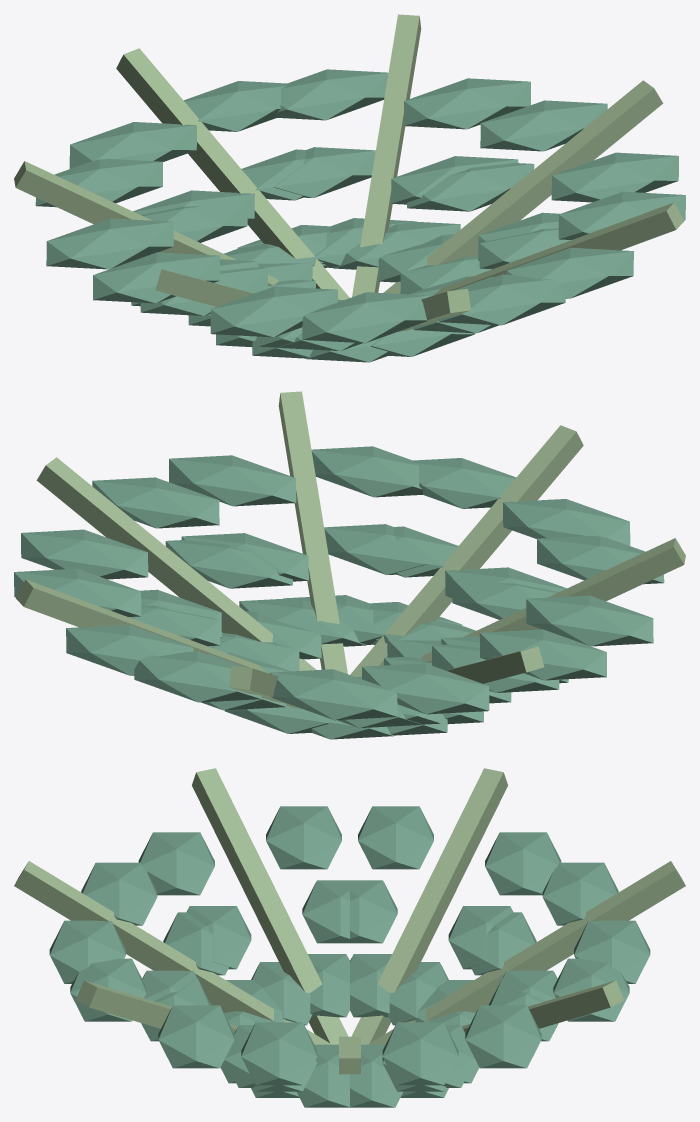
File: forest-fern.glb
3 renders of one model, top to bottom at view 1: azimuth 30°, elevation 25°; view 2: azimuth 150°, elevation 25°; view 3: azimuth 270°, elevation 25°, orthographic.
Parts seen in each view (by area): view 1: Fern frond, Fern frond.002, Fern frond.001, Fern leaflet.023, Fern leaflet.010, Fern leaflet.034, Fern leaflet.004, Fern leaflet.005, Fern leaflet.029, Fern leaflet.011, Fern frond.003, Fern leaflet.017 (+31 smaller); view 2: Fern frond, Fern frond.005, Fern frond.006, Fern leaflet.028, Fern leaflet.041, Fern leaflet.017, Fern leaflet.005, Fern leaflet.004, Fern leaflet.022, Fern leaflet.040, Fern frond.004, Fern leaflet.034 (+31 smaller); view 3: Fern frond.003, Fern frond.004, Fern frond.002, Fern frond.005, Fern leaflet.010, Fern leaflet.041, Fern leaflet.004, Fern leaflet.005, Fern leaflet.023, Fern leaflet.028, Fern leaflet.022, Fern leaflet.029 (+29 smaller).
Boxes of the visible parts, <box> form: Fern frond: <box>383,80,663,293</box>; Fern frond.002: <box>116,48,349,299</box>; Fern frond.001: <box>352,14,421,296</box>; Fern leaflet.023: <box>46,218,173,269</box>; Fern leaflet.010: <box>403,78,530,129</box>; Fern leaflet.034: <box>302,292,429,343</box>; Fern leaflet.004: <box>551,152,678,202</box>; Fern leaflet.005: <box>480,100,607,151</box>; Fern leaflet.029: <box>210,286,337,337</box>; Fern leaflet.011: <box>277,69,388,120</box>; Fern frond.003: <box>14,161,278,285</box>; Fern leaflet.017: <box>69,122,196,168</box>; Fern frond: <box>36,457,316,670</box>; Fern frond.005: <box>350,425,583,676</box>; Fern frond.006: <box>278,391,347,673</box>; Fern leaflet.028: <box>526,595,653,646</box>; Fern leaflet.041: <box>169,455,296,506</box>; Fern leaflet.017: <box>270,669,397,720</box>; Fern leaflet.005: <box>21,529,148,579</box>; Fern leaflet.004: <box>92,477,219,528</box>; Fern leaflet.022: <box>362,663,489,714</box>; Fern leaflet.040: <box>311,446,422,497</box>; Fern frond.004: <box>421,538,685,662</box>; Fern leaflet.034: <box>503,499,630,545</box>; Fern frond.003: <box>351,768,507,1044</box>; Fern frond.004: <box>192,768,348,1044</box>; Fern frond.002: <box>369,861,685,1044</box>; Fern frond.005: <box>14,861,330,1044</box>; Fern leaflet.010: <box>465,1005,541,1068</box>; Fern leaflet.041: <box>158,1005,234,1068</box>; Fern leaflet.004: <box>241,1022,317,1085</box>; Fern leaflet.005: <box>382,1022,458,1085</box>; Fern leaflet.023: <box>358,806,433,869</box>; Fern leaflet.028: <box>266,806,341,869</box>; Fern leaflet.022: <box>485,832,561,895</box>; Fern leaflet.029: <box>138,832,214,895</box>.
Size of the model in its own units: 1.24 by 0.3751 by 1.24.
